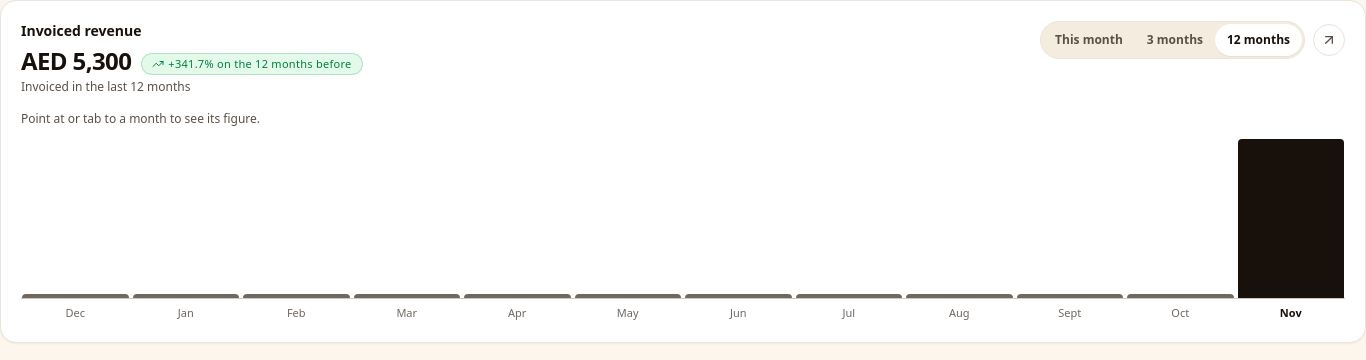
Test: DashboardKpiChart › shows a month’s value when its bar is focused or hovered
The image size is (1366, 360).
Step 1. Focus the button named "Nov 2026: AED 4,200" → (1291, 218), box [1236, 139, 1345, 298]
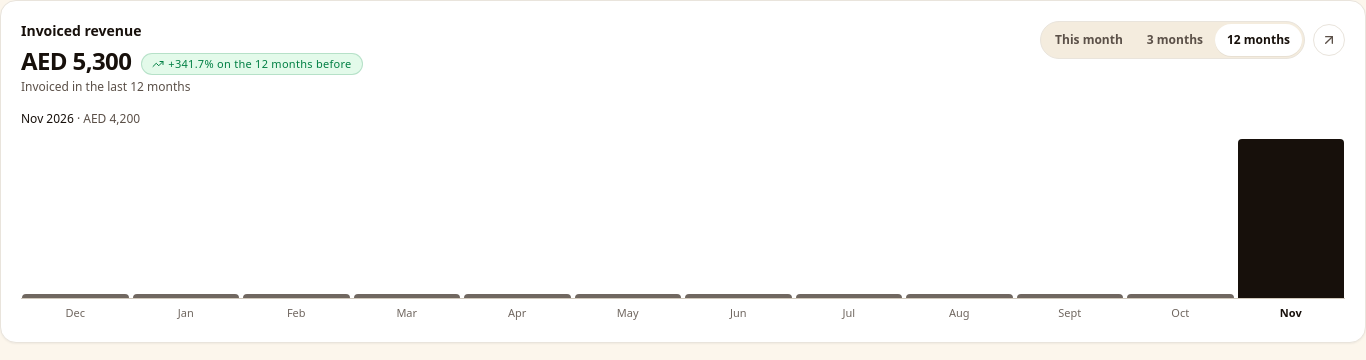
Result: the element with test id "revenue-readout" shows "4,200" at [83, 110, 140, 127]
Step 2. Leave the button named "Nov 2026: AED 4,200", box [1236, 139, 1345, 298]
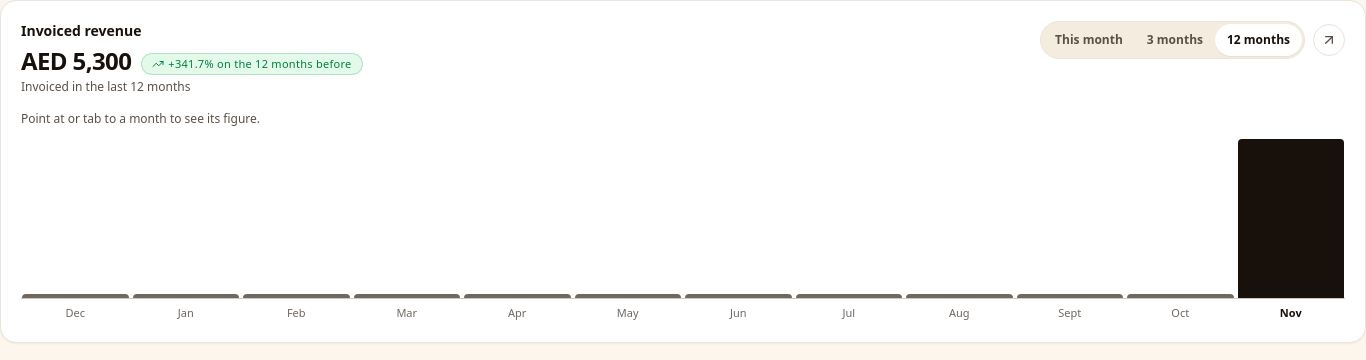
Step 3. Hover over the button named "Dec 2025: AED 100" → (75, 218), box [21, 139, 130, 298]
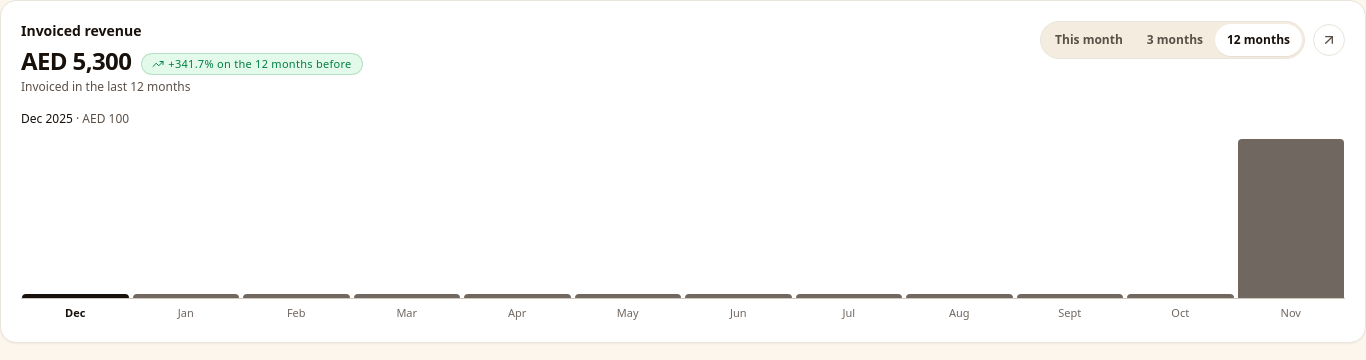
Result: the element with test id "revenue-readout" shows "100" at [82, 110, 129, 127]
